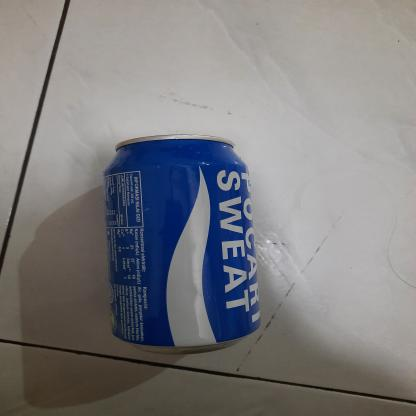mouse: (100, 131, 269, 358)
